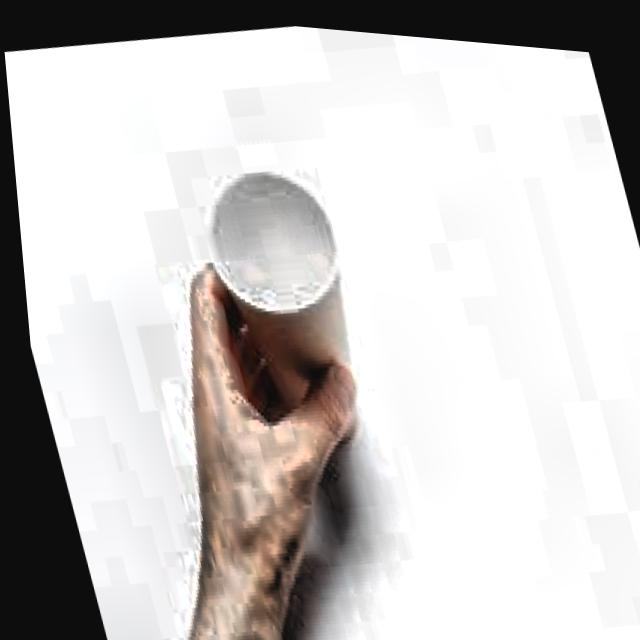Cup: (174, 141, 388, 467)
